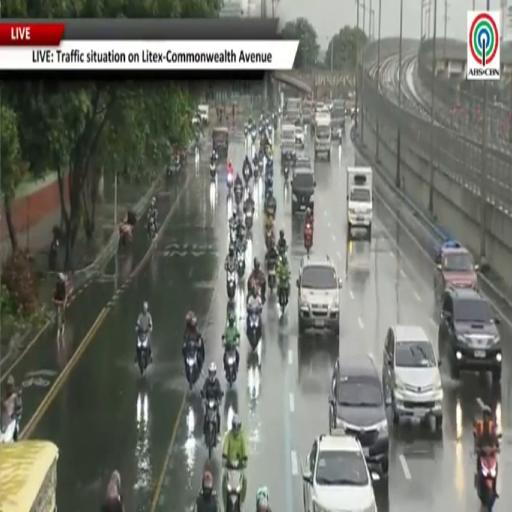car: (329, 355, 389, 476), (382, 325, 443, 433), (439, 287, 502, 382), (303, 434, 379, 511), (297, 255, 342, 334), (435, 247, 478, 297), (291, 166, 315, 214), (281, 124, 296, 169), (296, 153, 314, 171), (295, 126, 305, 149), (198, 105, 209, 125)
jeepney: (0, 441, 58, 511), (213, 127, 229, 161)
motorcycle: (0, 390, 22, 444), (477, 451, 497, 510), (226, 464, 243, 511), (205, 399, 218, 458), (119, 212, 136, 247), (186, 349, 199, 390), (247, 311, 261, 349), (137, 331, 149, 375), (225, 349, 237, 387), (119, 222, 134, 246), (54, 300, 64, 335), (227, 268, 236, 299), (279, 283, 288, 314), (304, 223, 312, 254), (227, 300, 236, 325), (237, 250, 245, 277), (268, 265, 276, 292), (148, 217, 156, 241), (265, 229, 274, 249), (243, 165, 251, 186), (265, 175, 273, 196), (234, 185, 242, 205), (245, 210, 253, 230), (227, 173, 233, 197), (350, 123, 356, 141), (210, 162, 216, 180), (257, 157, 263, 175), (266, 157, 273, 172), (283, 165, 289, 182), (230, 229, 236, 245), (252, 128, 256, 143), (244, 126, 248, 138)
truck: (346, 166, 373, 241), (347, 240, 371, 276), (314, 118, 330, 161), (331, 100, 345, 135), (285, 99, 302, 124), (198, 104, 209, 125)
